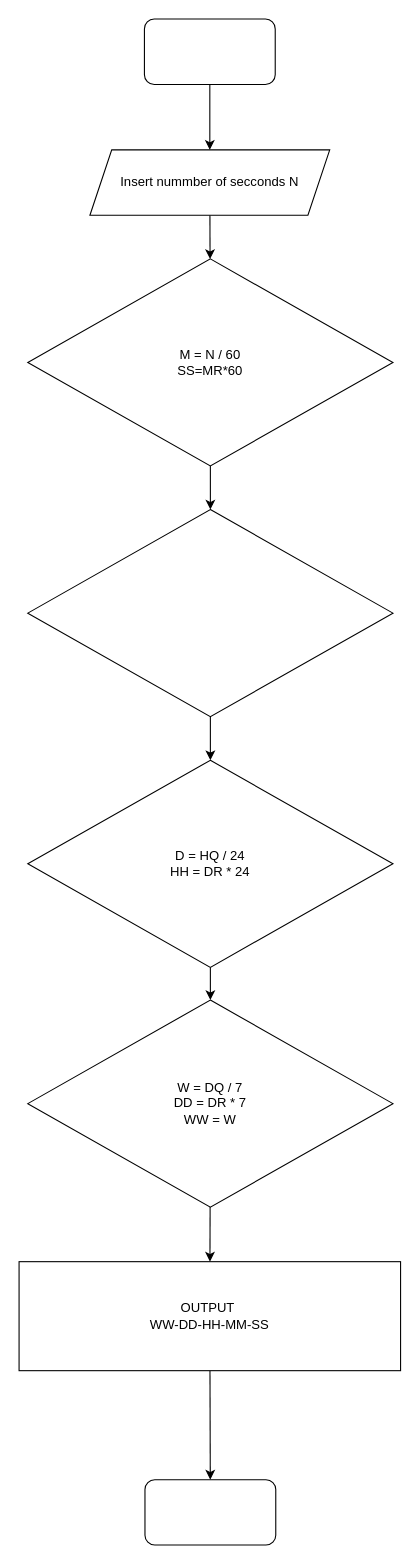
The diagram is 420 pixels wide and 1564 high, and some of its shapes have lost their labels. The shapes that lost their labels are listed below. From the top down, each one's centre as x and y in pixels, then its label:
At (209,51): "Start".
At (210,612): "H = MQ / 60 MM = HR * 60".
At (210,1512): "End".
